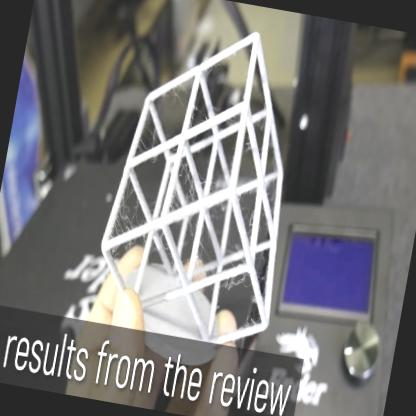fail: (117, 200, 140, 232), (178, 167, 199, 198), (225, 272, 249, 298), (140, 129, 159, 149), (182, 187, 199, 201)
